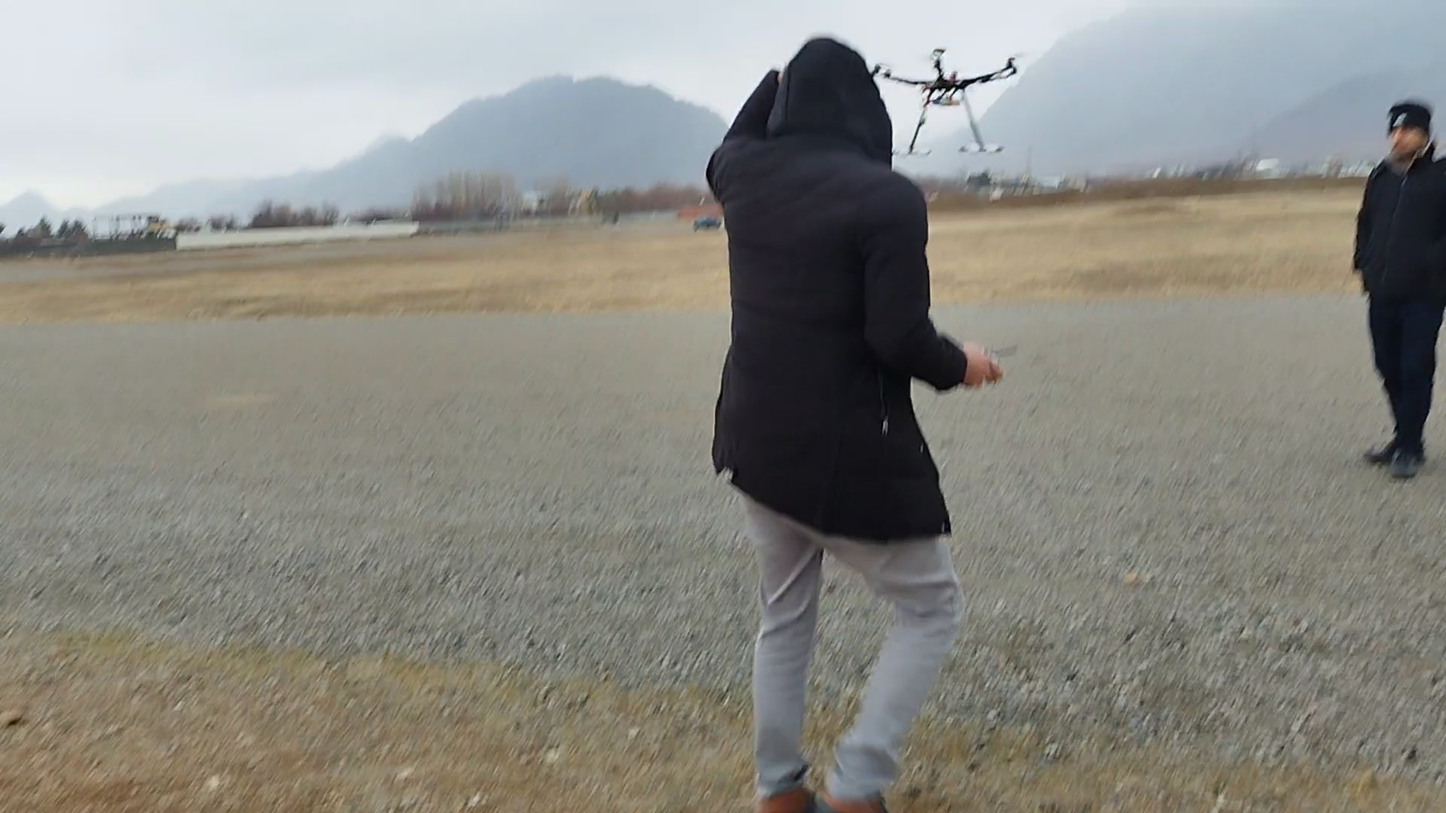drone_other: (892, 45, 1030, 157)
